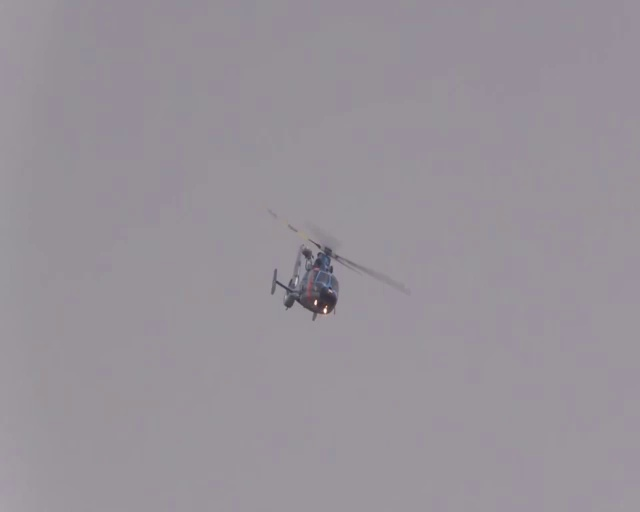HELICOPTER: (263, 206, 409, 322)
